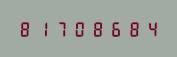eight: (17, 20, 34, 37), (89, 20, 106, 37), (125, 20, 142, 37)
four: (143, 20, 160, 37)
one: (35, 20, 52, 37)
seven: (53, 20, 70, 37)
six: (107, 20, 124, 37)
zero: (71, 20, 88, 37)
